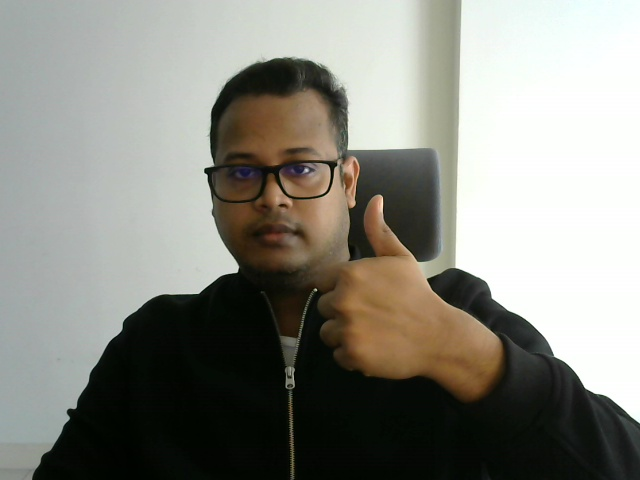ThumbsUp: (318, 194, 434, 380)
